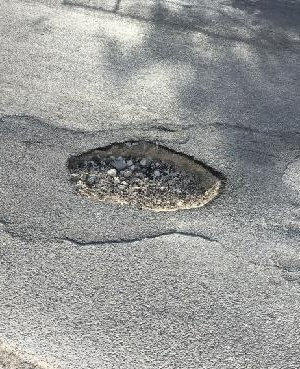pothole: (64, 134, 230, 211)
